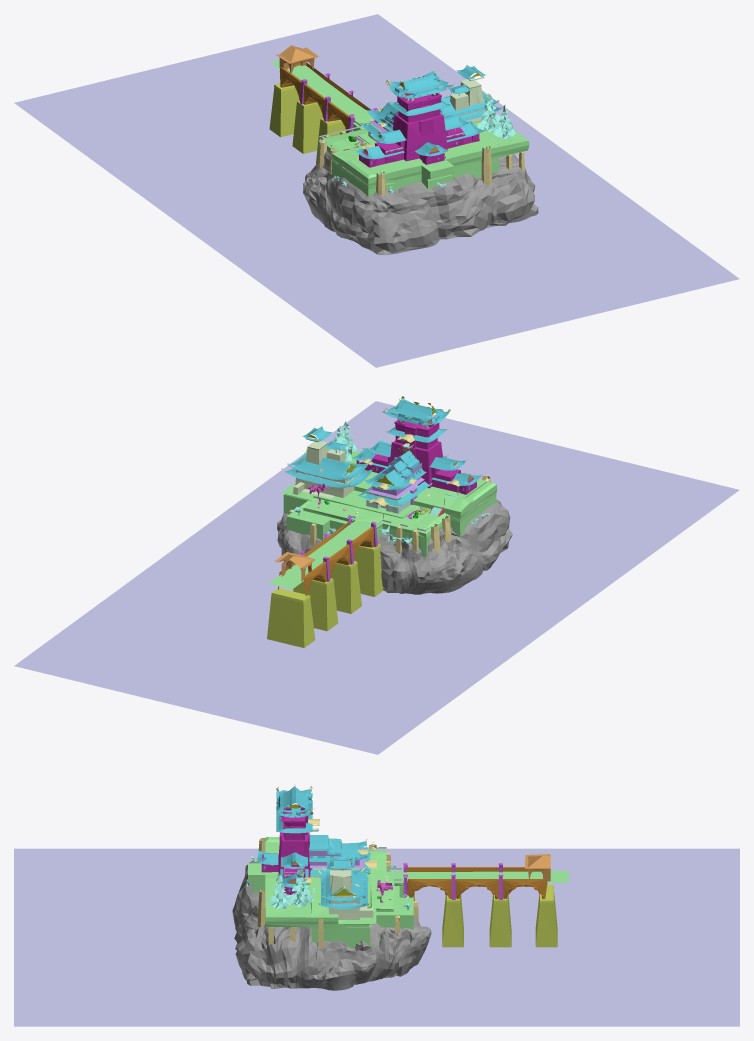
Rendered from imperial-asian-estate.glb.
3 renders of one model, top to bottom at view 1: azimuth 30°, elevation 25°; view 2: azimuth 150°, elevation 25°; view 3: azimuth 270°, elevation 25°, orthographic.
Visible parts, largest first — view 1: wire_154154229, wire_086086086, wire_087225087, wire_028149177, wire_138008110, wire_148177027, wire_135059008, wire_225198087, wire_087225198, wire_184228153, wire_177088027; view 2: wire_154154229, wire_087225087, wire_086086086, wire_148177027, wire_028149177, wire_138008110, wire_135059008, wire_225198087, wire_184228153, wire_140088225; view 3: wire_154154229, wire_086086086, wire_087225087, wire_028149177, wire_148177027, wire_135059008, wire_138008110, wire_225198087, wire_184228153, wire_087225198, wire_177088027, wire_145028177.
Part boxes in pixels (<box>): wire_154154229: <box>14,14,739,367</box>; wire_086086086: <box>303,67,538,255</box>; wire_087225087: <box>271,60,529,196</box>; wire_028149177: <box>355,65,501,159</box>; wire_138008110: <box>359,93,479,167</box>; wire_148177027: <box>269,83,345,163</box>; wire_135059008: <box>279,63,439,133</box>; wire_225198087: <box>317,107,524,194</box>; wire_087225198: <box>350,93,515,148</box>; wire_184228153: <box>450,79,484,123</box>; wire_177088027: <box>276,45,318,73</box>; wire_154154229: <box>14,401,739,754</box>; wire_087225087: <box>269,450,497,589</box>; wire_086086086: <box>277,429,512,594</box>; wire_148177027: <box>267,544,383,647</box>; wire_028149177: <box>284,398,481,505</box>; wire_138008110: <box>356,420,476,494</box>; wire_135059008: <box>278,408,433,596</box>; wire_225198087: <box>289,434,490,554</box>; wire_184228153: <box>293,440,358,498</box>; wire_140088225: <box>367,457,424,504</box>; wire_154154229: <box>14,848,739,1026</box>; wire_086086086: <box>232,858,431,990</box>; wire_087225087: <box>248,837,568,947</box>; wire_028149177: <box>258,786,370,909</box>; wire_148177027: <box>413,885,557,947</box>; wire_135059008: <box>407,867,547,899</box>; wire_138008110: <box>261,804,312,894</box>; wire_225198087: <box>257,819,418,948</box>; wire_184228153: <box>329,870,373,919</box>; wire_087225198: <box>268,867,314,908</box>; wire_177088027: <box>525,854,550,881</box>; wire_145028177: <box>403,863,503,899</box>.
Size of the model in its own units: 2984 by 1197 by 5139.
